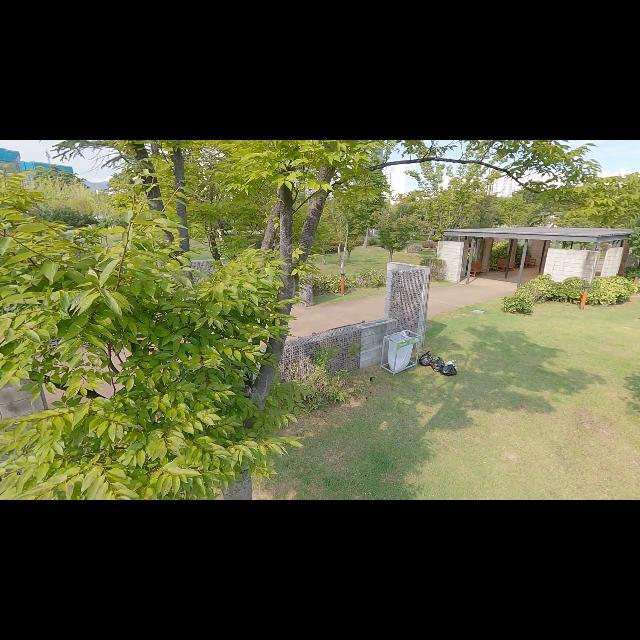trash: (430, 356, 444, 372), (441, 364, 457, 376), (420, 351, 432, 365), (445, 359, 457, 368)
